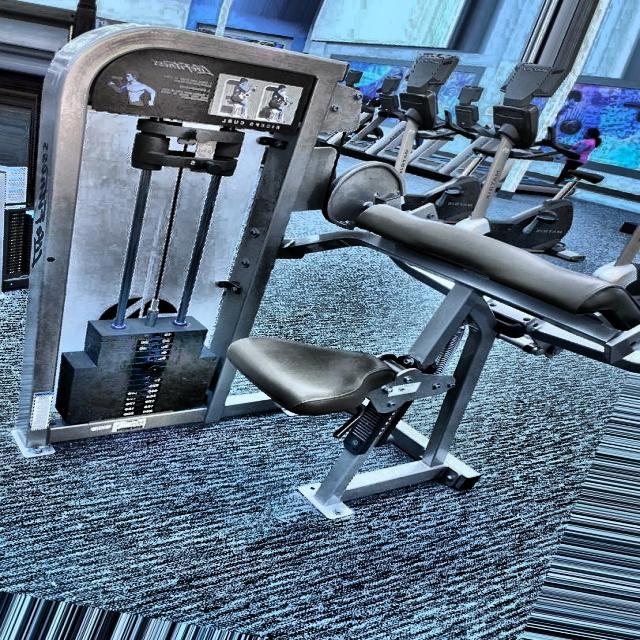bicep_curl_machine: (176, 89, 638, 544), (96, 43, 306, 142)
